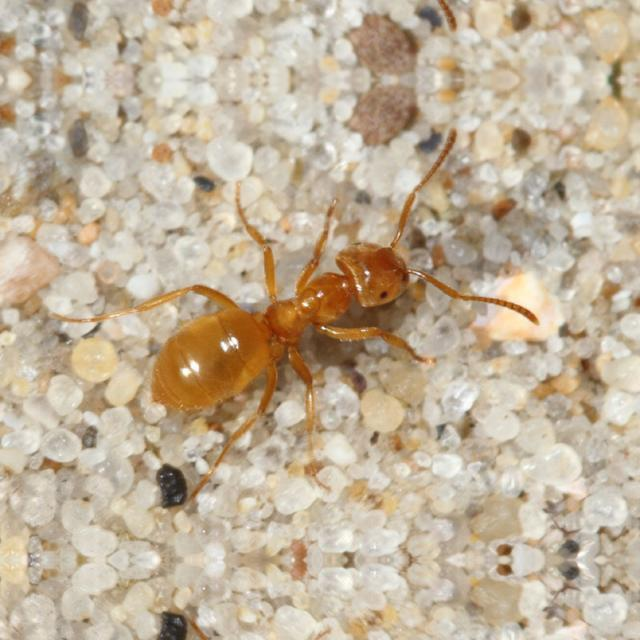Lasius: (130, 170, 432, 426)
